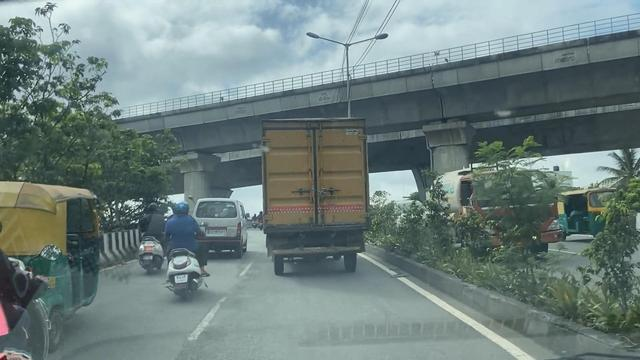LMV: (168, 198, 200, 296), (267, 122, 267, 122)
